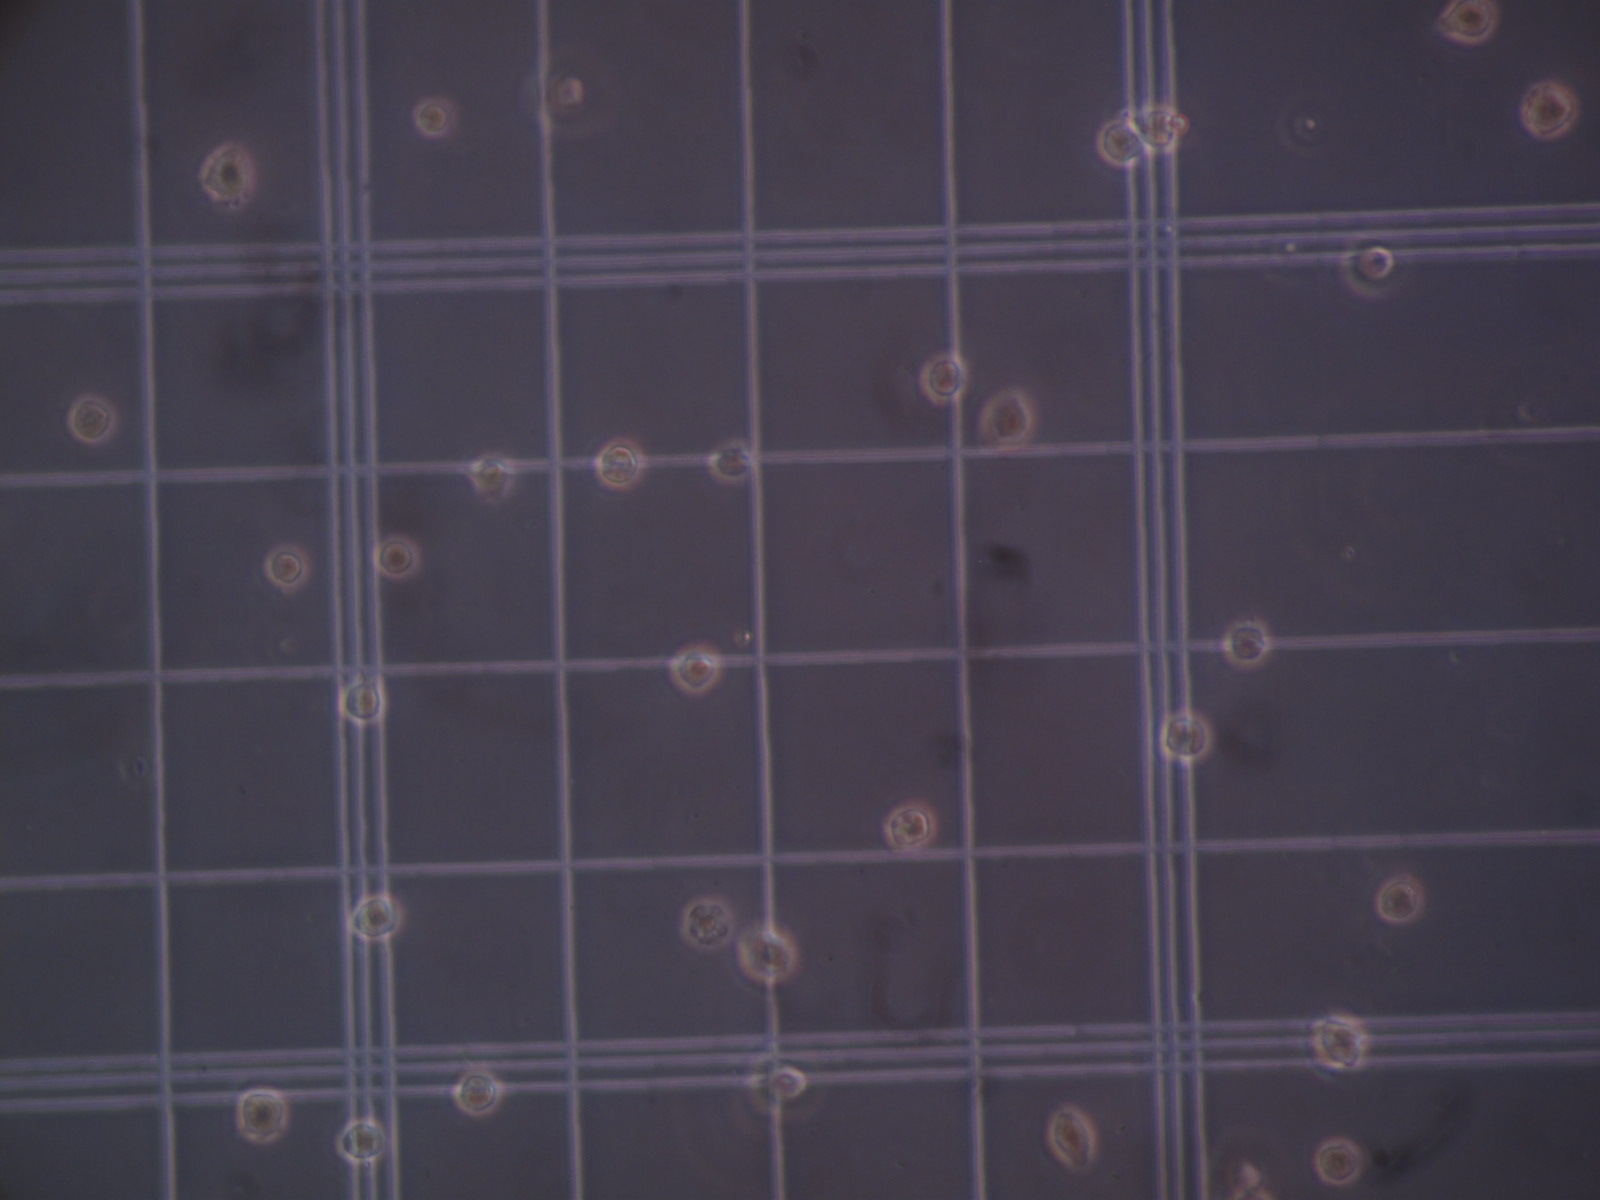hemo: (518, 37, 598, 140), (745, 1049, 826, 1119), (1339, 233, 1403, 297), (1519, 79, 1579, 144), (1047, 1100, 1095, 1172), (981, 388, 1034, 453), (199, 142, 253, 204), (736, 929, 799, 982), (1310, 1012, 1366, 1071), (236, 1088, 289, 1145), (346, 892, 404, 943), (1159, 710, 1212, 764), (881, 803, 937, 853), (678, 900, 734, 949), (593, 439, 645, 490), (1437, 1, 1498, 45), (1374, 874, 1425, 926), (670, 642, 721, 695), (454, 1068, 505, 1118), (1096, 118, 1146, 169), (920, 353, 968, 406), (1129, 105, 1178, 153), (1223, 618, 1269, 669), (1315, 1134, 1361, 1186), (336, 679, 387, 725), (335, 1118, 388, 1161), (67, 395, 113, 442), (707, 437, 753, 482), (469, 454, 513, 500), (373, 536, 420, 580), (265, 545, 306, 590), (416, 97, 449, 139)
